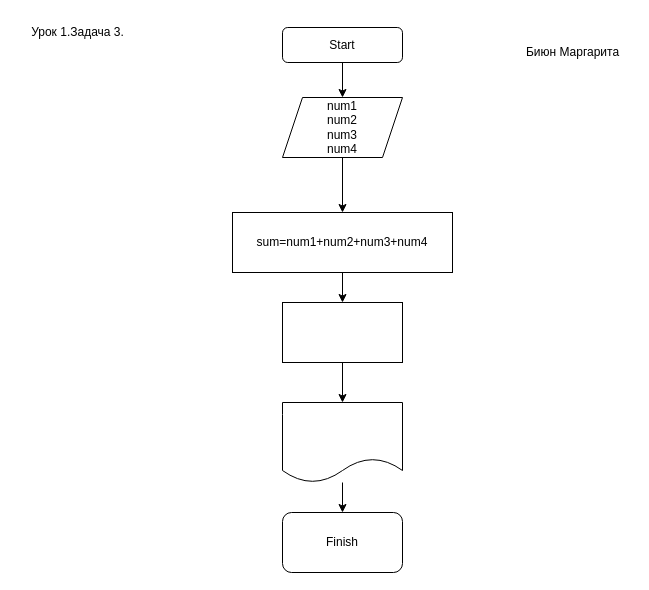
Image size: 649x590. Some labels were removed from this diagram. The shapes that lost their labels are listed below. From the top down, each one's centre as x and y in pixels, then its label:
pixel 342 332: average=sum/4
pixel 342 442: print(average)
